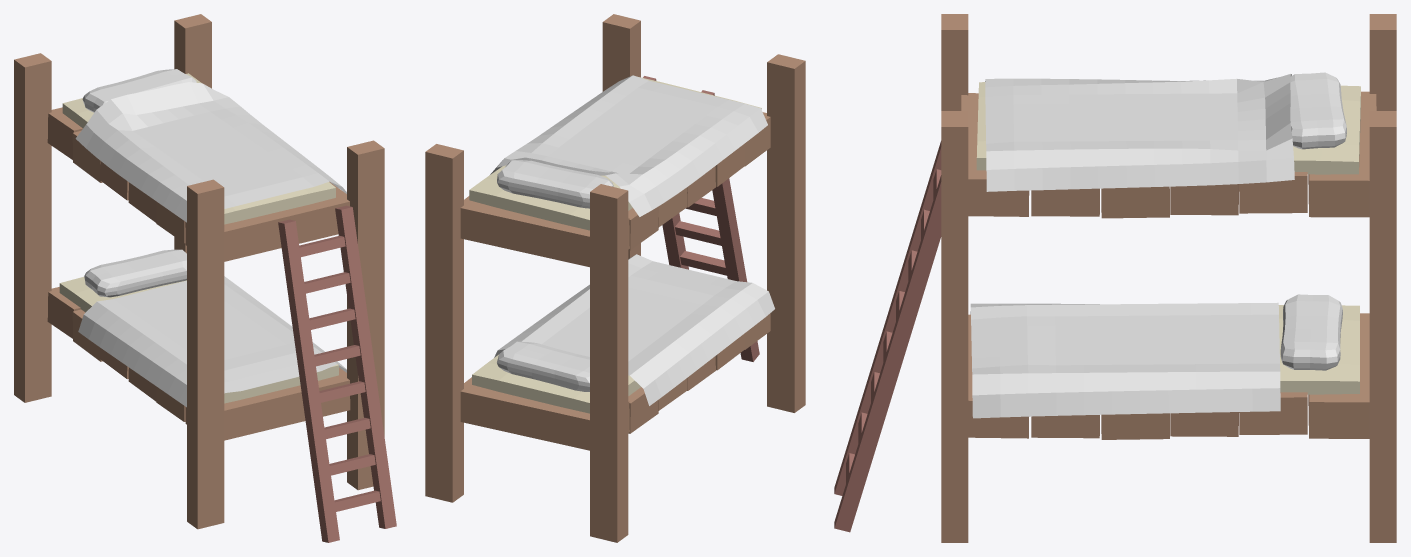
File: chuang_1.fbx
3 views of the same model, side by side, from view 1: azimuth 30°, elevation 25°; view 2: azimuth 150°, elevation 25°; view 3: azimuth 270°, elevation 25° (orthographic). The views are drawn at different scales.
Parts seen in each view (by area): view 1: 立方体.001, 平面.001, 立方体.007, 平面, 立方体.005, 立方体.004, 立方体.003, 立方体.006; view 2: 立方体.001, 平面.001, 平面, 立方体.007, 立方体.006, 立方体.005, 立方体.004, 立方体.003; view 3: 立方体.001, 平面, 平面.001, 立方体.007, 立方体.005, 立方体.006, 立方体.004, 立方体.003.
Part boxes in pixels (bbox=[...]): 立方体.001: bbox=[14, 14, 384, 529]; 平面.001: bbox=[75, 82, 346, 222]; 立方体.007: bbox=[278, 205, 396, 542]; 平面: bbox=[78, 276, 346, 407]; 立方体.005: bbox=[84, 249, 186, 297]; 立方体.004: bbox=[62, 73, 335, 224]; 立方体.003: bbox=[59, 276, 338, 403]; 立方体.006: bbox=[82, 69, 196, 112]; 立方体.001: bbox=[425, 14, 805, 542]; 平面.001: bbox=[490, 75, 767, 216]; 平面: bbox=[494, 254, 774, 405]; 立方体.007: bbox=[643, 76, 759, 361]; 立方体.006: bbox=[497, 160, 613, 208]; 立方体.005: bbox=[497, 341, 589, 391]; 立方体.004: bbox=[469, 77, 761, 230]; 立方体.003: bbox=[472, 354, 640, 413]; 立方体.001: bbox=[941, 14, 1396, 542]; 平面: bbox=[970, 302, 1280, 418]; 平面.001: bbox=[985, 74, 1294, 191]; 立方体.007: bbox=[834, 141, 941, 532]; 立方体.005: bbox=[1280, 294, 1342, 370]; 立方体.006: bbox=[1290, 72, 1346, 149]; 立方体.004: bbox=[976, 82, 1360, 174]; 立方体.003: bbox=[1278, 305, 1359, 394].
Bounding box in the file's own units: 65.69 × 115 × 138.
